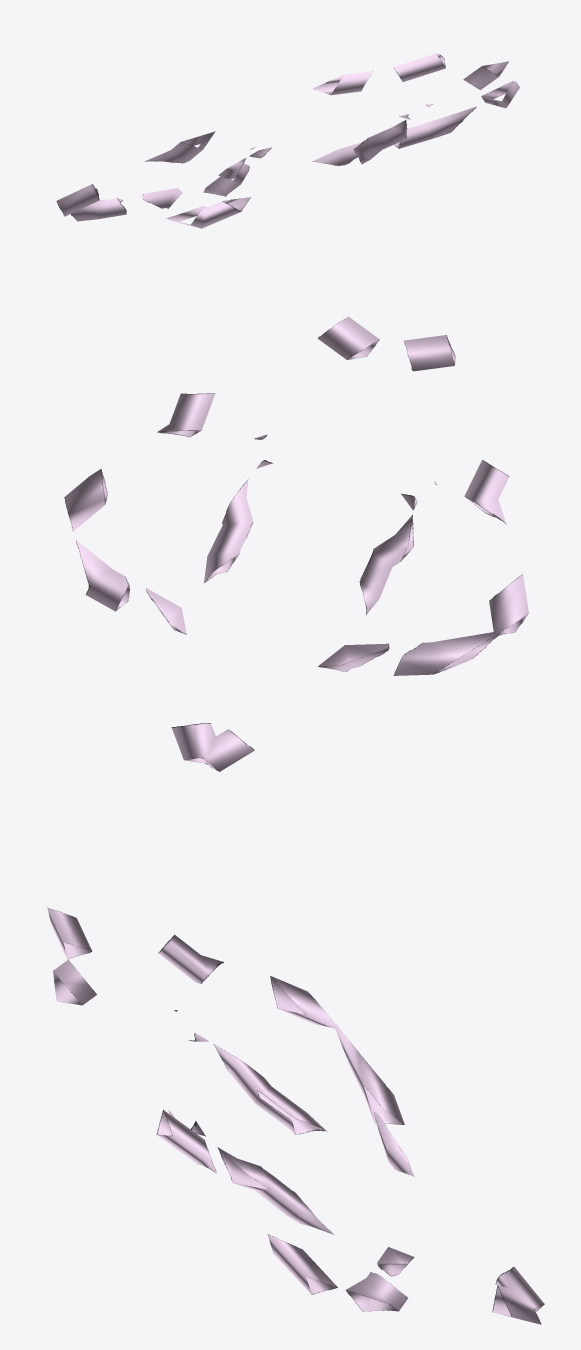
File: CH0167_Halo.fbx
The picture shows the model from 3 angles, top to bottom: view 1: azimuth 30°, elevation 25°; view 2: azimuth 150°, elevation 25°; view 3: azimuth 270°, elevation 25°; orthographic projection. The views are drawn at different scales.
Visible parts, largest first — view 1: CH0167_Halo; view 2: CH0167_Halo; view 3: CH0167_Halo.
Boxes of the visible parts, x1,y1,x2,y2 form: CH0167_Halo: (56, 53, 519, 228); CH0167_Halo: (64, 316, 528, 771); CH0167_Halo: (47, 907, 544, 1324).
Size of the model in its own units: 0.2925 by 0.1796 by 0.214.
